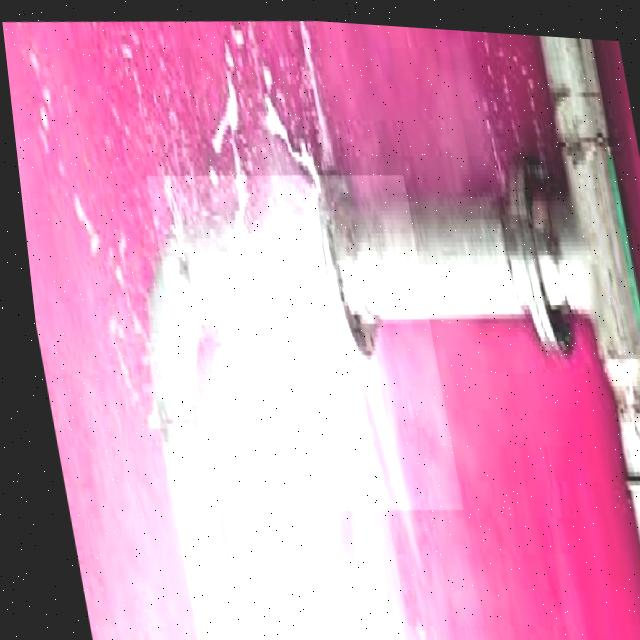corrosion: (178, 165, 459, 428)
